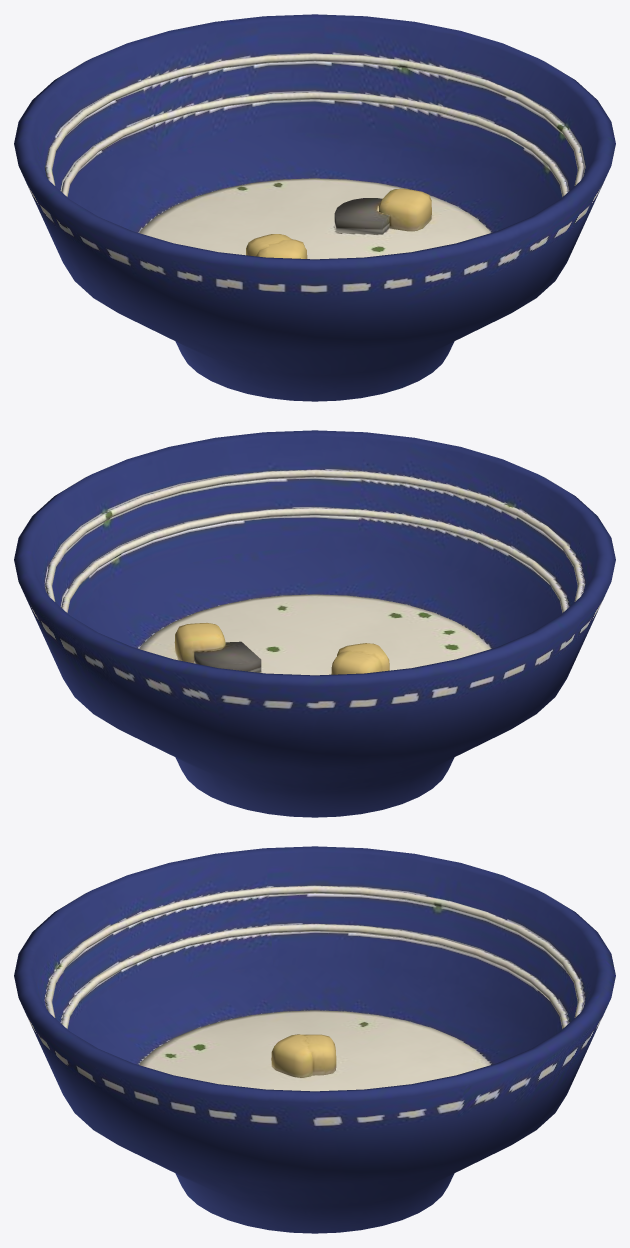
File: clam_chowder_b2.glb
3 renders of one model, top to bottom at view 1: azimuth 30°, elevation 25°; view 2: azimuth 150°, elevation 25°; view 3: azimuth 270°, elevation 25°, orthographic.
Visible parts, largest first — view 1: prop_clam_chowder_b2_felt; view 2: prop_clam_chowder_b2_felt; view 3: prop_clam_chowder_b2_felt.
Boxes of the visible parts, box(x1,y1,x2,y2) form: prop_clam_chowder_b2_felt: box(14, 14, 615, 401); prop_clam_chowder_b2_felt: box(14, 430, 615, 817); prop_clam_chowder_b2_felt: box(14, 846, 615, 1233).
Size of the model in its own units: 0.204 by 0.0773 by 0.204.
1 material, 1 textured.
